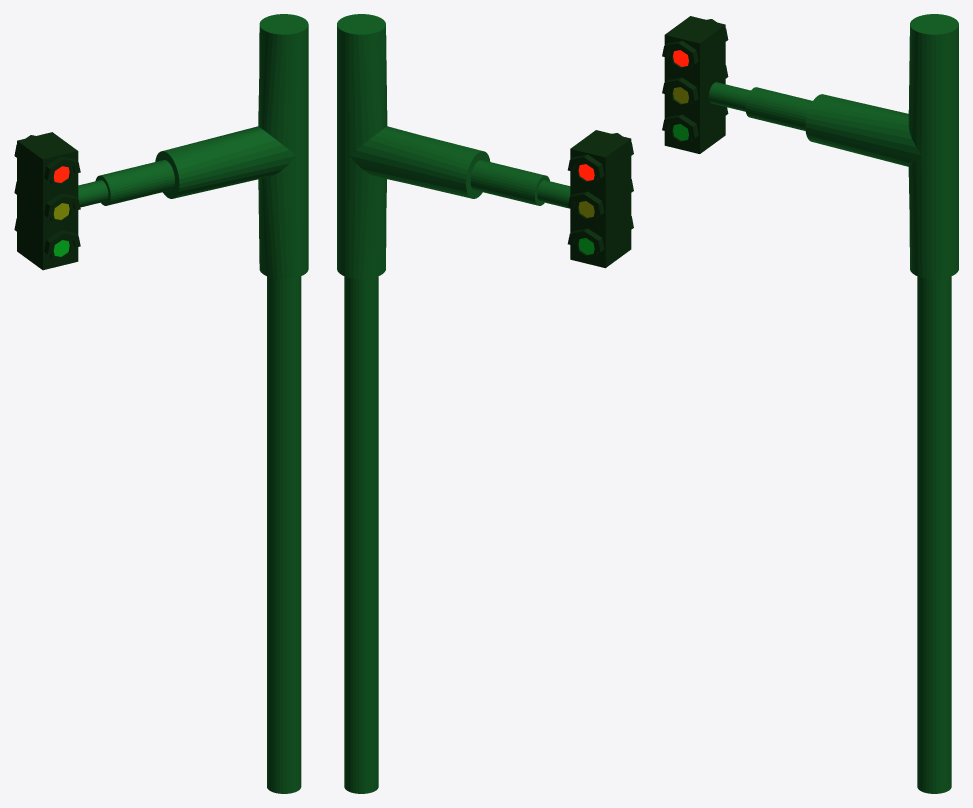
File: trafficLamp.fbx
The picture shows the model from 3 angles, left to right: view 1: azimuth 30°, elevation 25°; view 2: azimuth 150°, elevation 25°; view 3: azimuth 330°, elevation 25°; orthographic projection.
Visible parts, largest first — view 1: Tee Joint, Cube.001; view 2: Tee Joint, Cube.001; view 3: Tee Joint, Cube.001.
Boxes of the visible parts, bbox=[...] form: Tee Joint: bbox=[78, 14, 308, 793]; Cube.001: bbox=[14, 132, 80, 270]; Tee Joint: bbox=[337, 14, 570, 793]; Cube.001: bbox=[567, 130, 633, 268]; Tee Joint: bbox=[708, 14, 958, 793]; Cube.001: bbox=[662, 16, 728, 153].
Bounding box in the file's own units: 711 × 1871 × 149.
